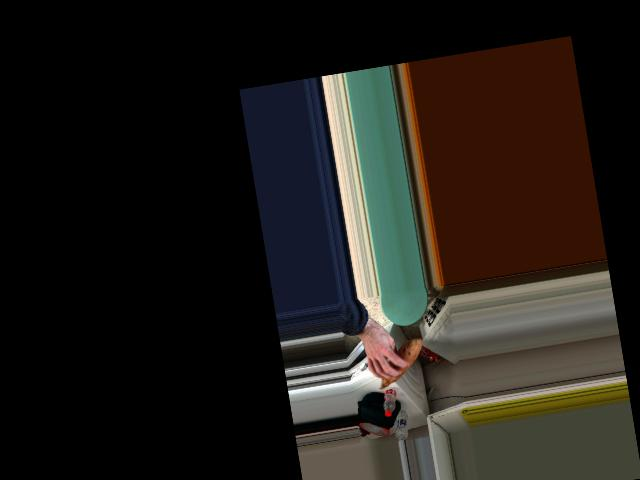sweet_potato: (369, 338, 425, 388)
